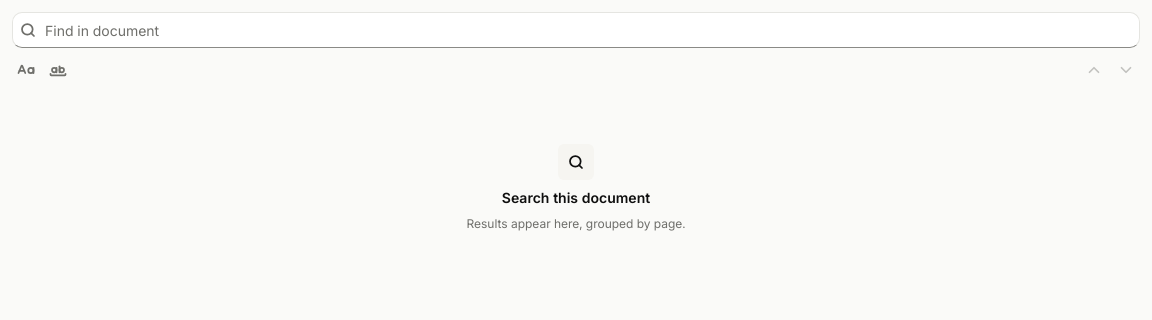
Test case: the search panel › the clear button empties the field, searches nothing and takes no tab stop
Step 1. Type "quick" into the search field named "Search" → {"x": 576, "y": 30}, box left=12, top=12, right=1140, bottom=48
Then press Enter
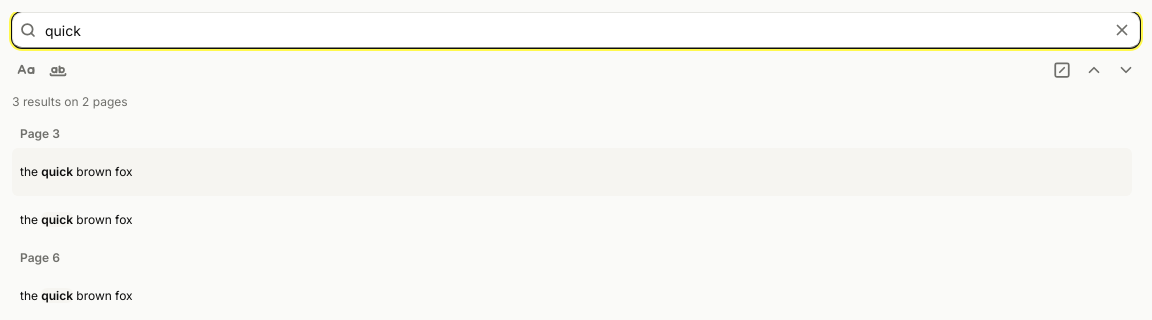
Step 2. Click the button named "Clear search" → {"x": 1122, "y": 30}, box left=1108, top=16, right=1136, bottom=44
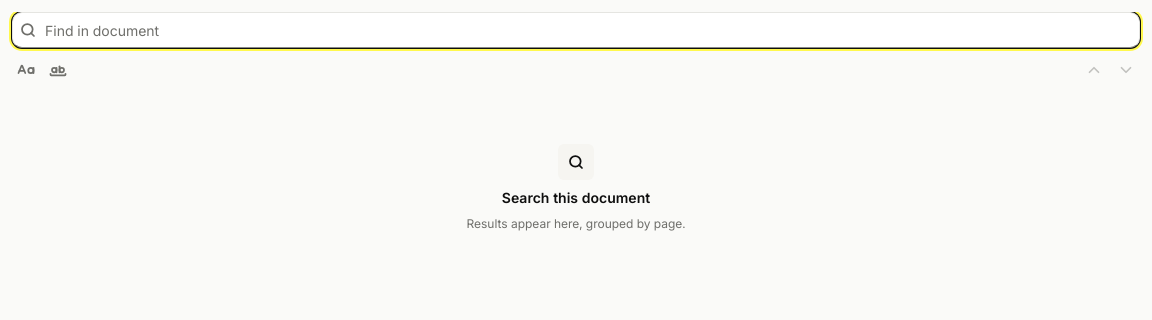
Result: the search field named "Search" is empty at left=12, top=12, right=1140, bottom=48
